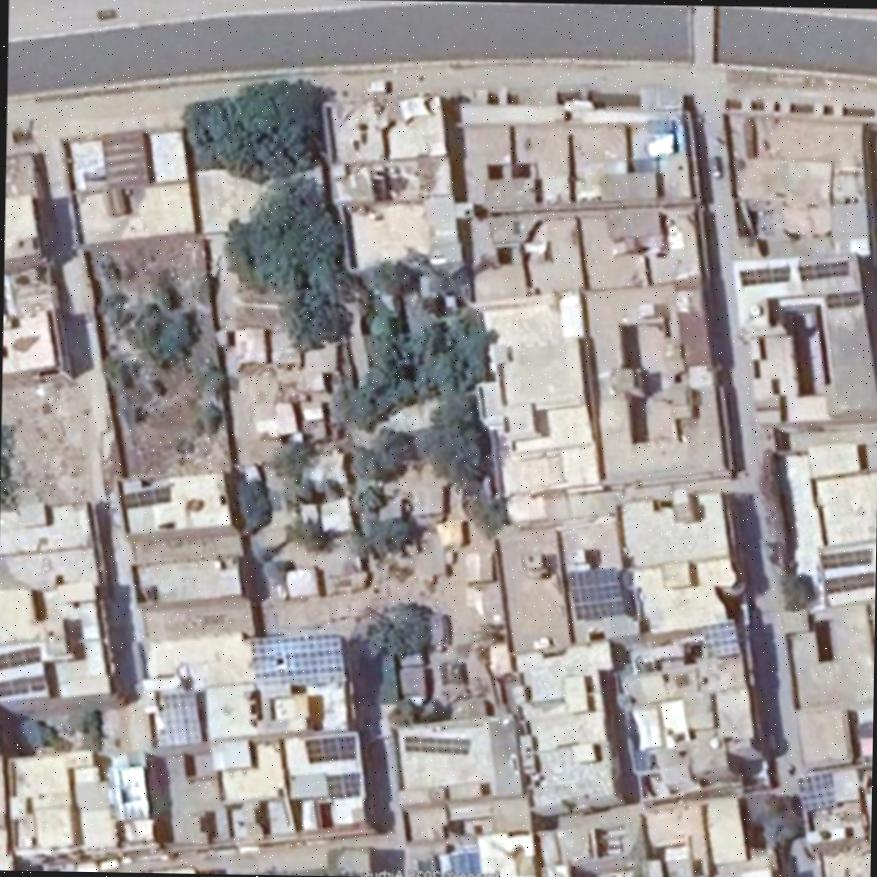Solarpanel: (247, 632, 345, 686), (568, 565, 622, 615), (153, 691, 200, 745), (107, 763, 148, 823), (797, 770, 835, 807), (303, 732, 354, 758), (700, 620, 740, 653), (823, 570, 875, 595), (117, 484, 169, 508), (739, 264, 788, 284), (797, 259, 848, 278), (819, 549, 870, 568), (325, 770, 360, 797), (0, 646, 40, 668), (0, 674, 45, 693), (404, 737, 466, 749), (822, 290, 859, 307)
